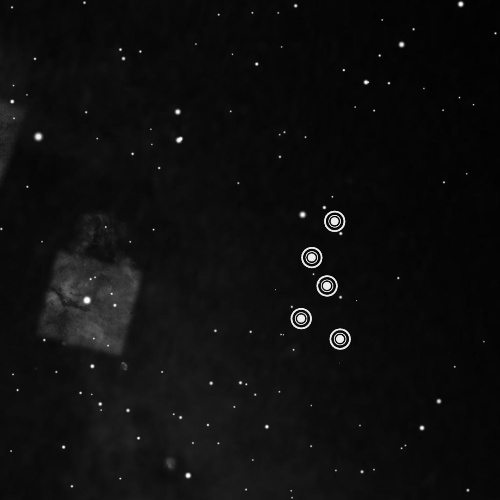cassiopeia: (286, 200, 357, 355)
